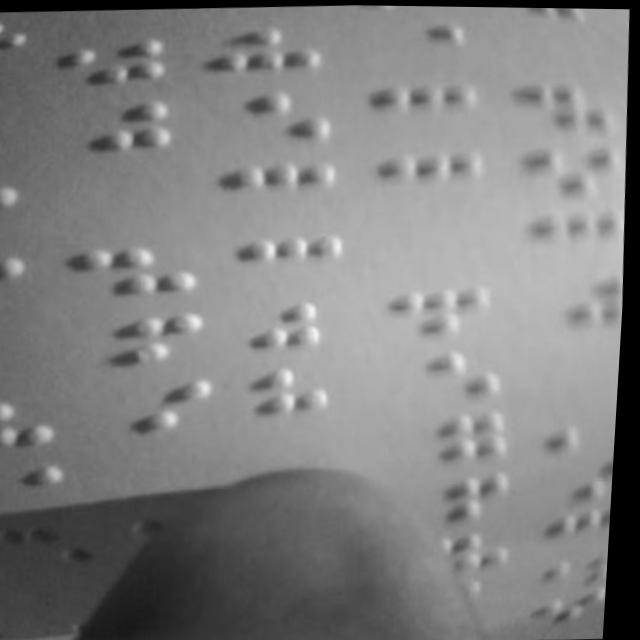braiile: (74, 304, 213, 380), (72, 229, 207, 301), (56, 95, 188, 164), (209, 7, 332, 79), (216, 79, 338, 150), (93, 377, 224, 442), (391, 402, 518, 468), (225, 152, 340, 221), (386, 341, 509, 405), (395, 466, 518, 530), (374, 145, 488, 214), (239, 228, 354, 295), (53, 26, 175, 89), (380, 278, 497, 343), (516, 73, 625, 136), (373, 77, 478, 140), (368, 17, 473, 80), (521, 137, 628, 198), (529, 200, 629, 262), (541, 267, 628, 329), (486, 6, 594, 32)
